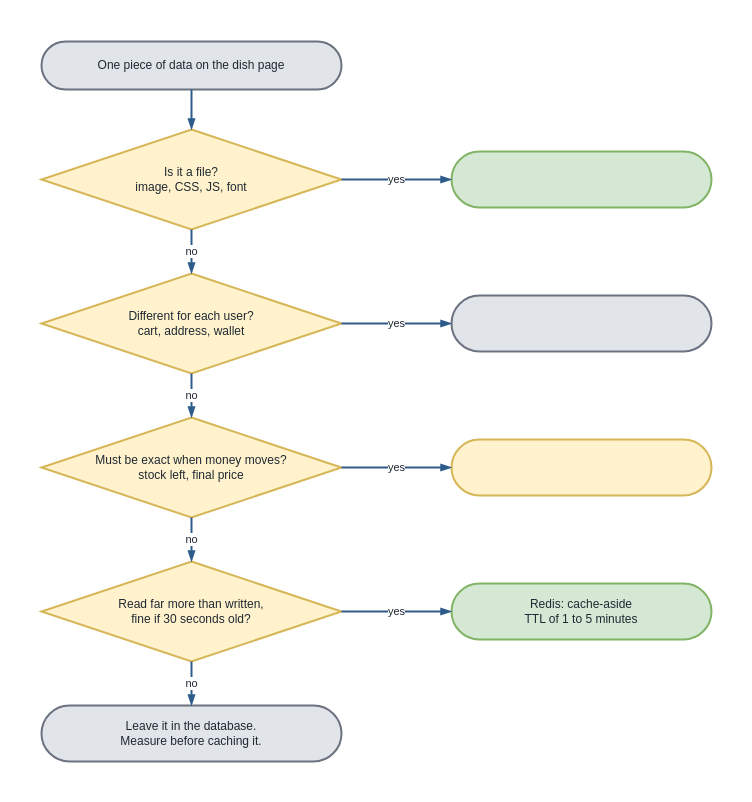
Some shapes in this 752 by 802 pixel diagram are drawn without their labels. Here are the shapes that lost their labels. From the top down, the centre of each, then its label:
At (581,179): "CDN: Front Door long TTL, versioned URL".
At (581,323): "Do not share-cache it. Read it from the database".
At (581,467): "Database is the truth. Redis counter only as the gate".
